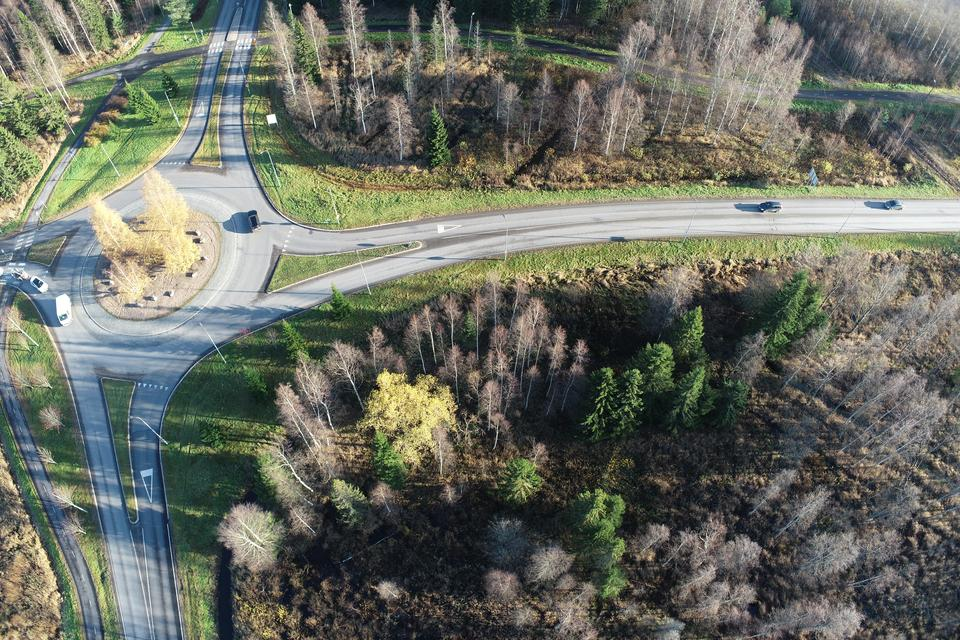intersection: (0, 216, 43, 329), (191, 25, 279, 65)
roundabout: (48, 101, 380, 420)
